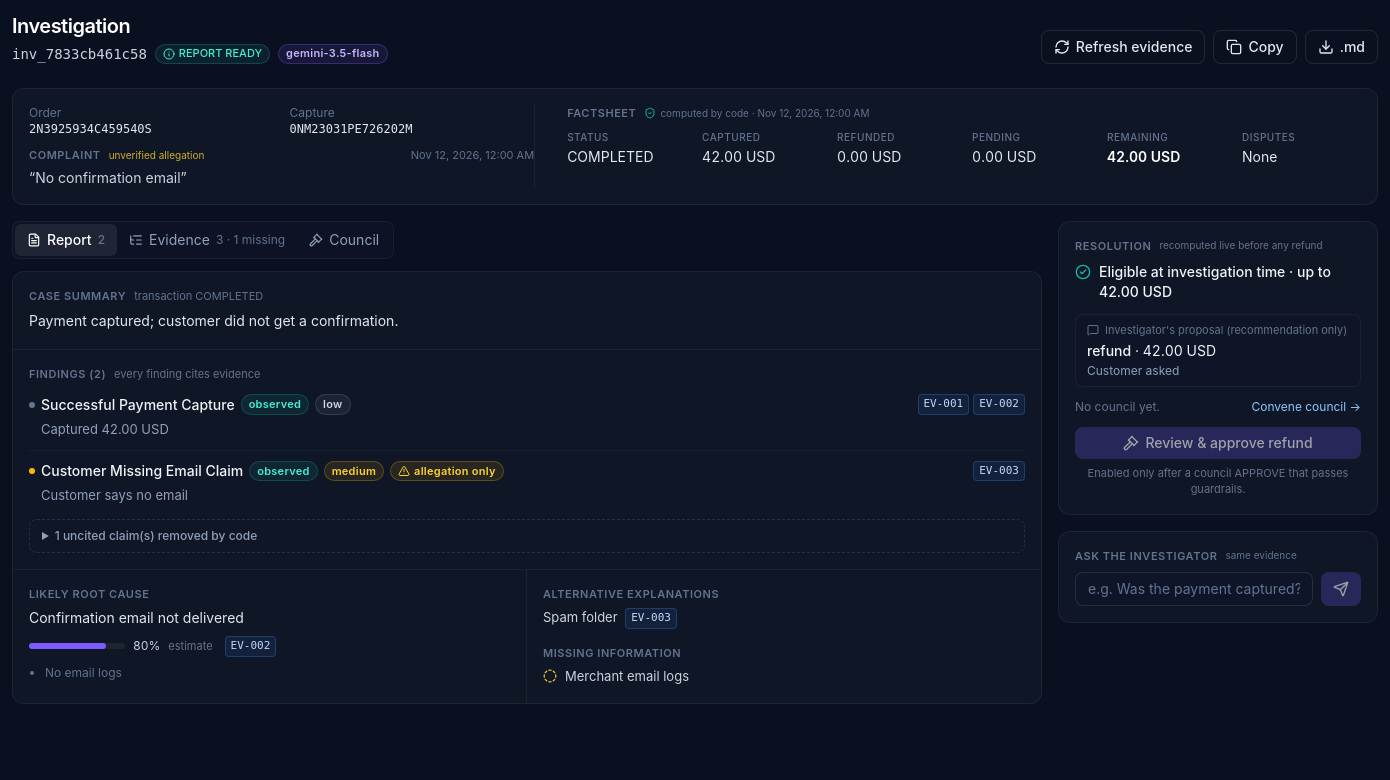
Scenario: Investigation workspace › renders cited findings, FactSheet, root cause estimate and the removed-claim notice
The image size is (1390, 780).
Expected: the text "Successful Payment Capture" is shown, [41, 394, 235, 414]
Expected: the 1st text "42.00 USD" is shown, [702, 148, 775, 164]
Missing evidence appears as a timeline marker on the Evidence tab.
Click the tab "Evidence 3 · 1 missing": (207, 240) [117, 224, 297, 256]
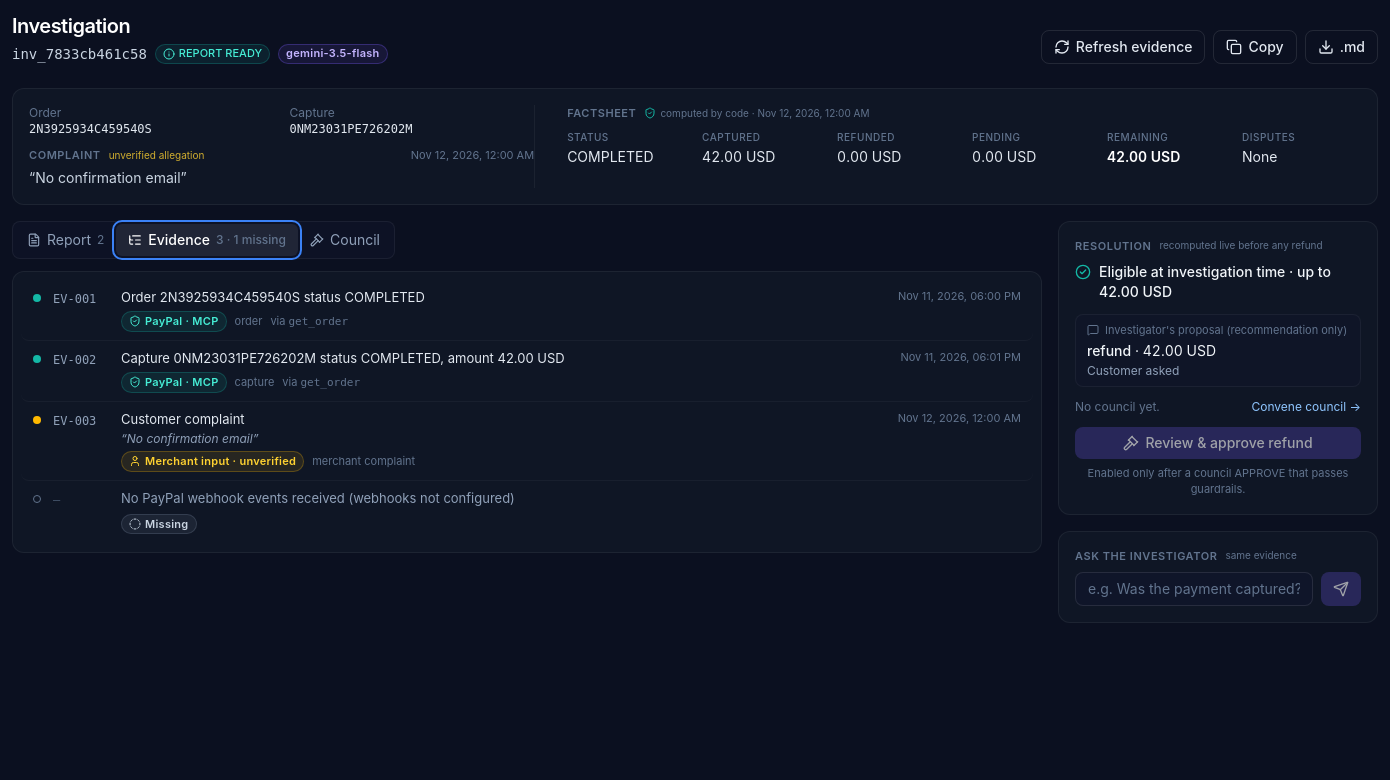
Expected: the text "No PayPal webhook events received (webhooks not configured)" is shown, [121, 490, 515, 506]
